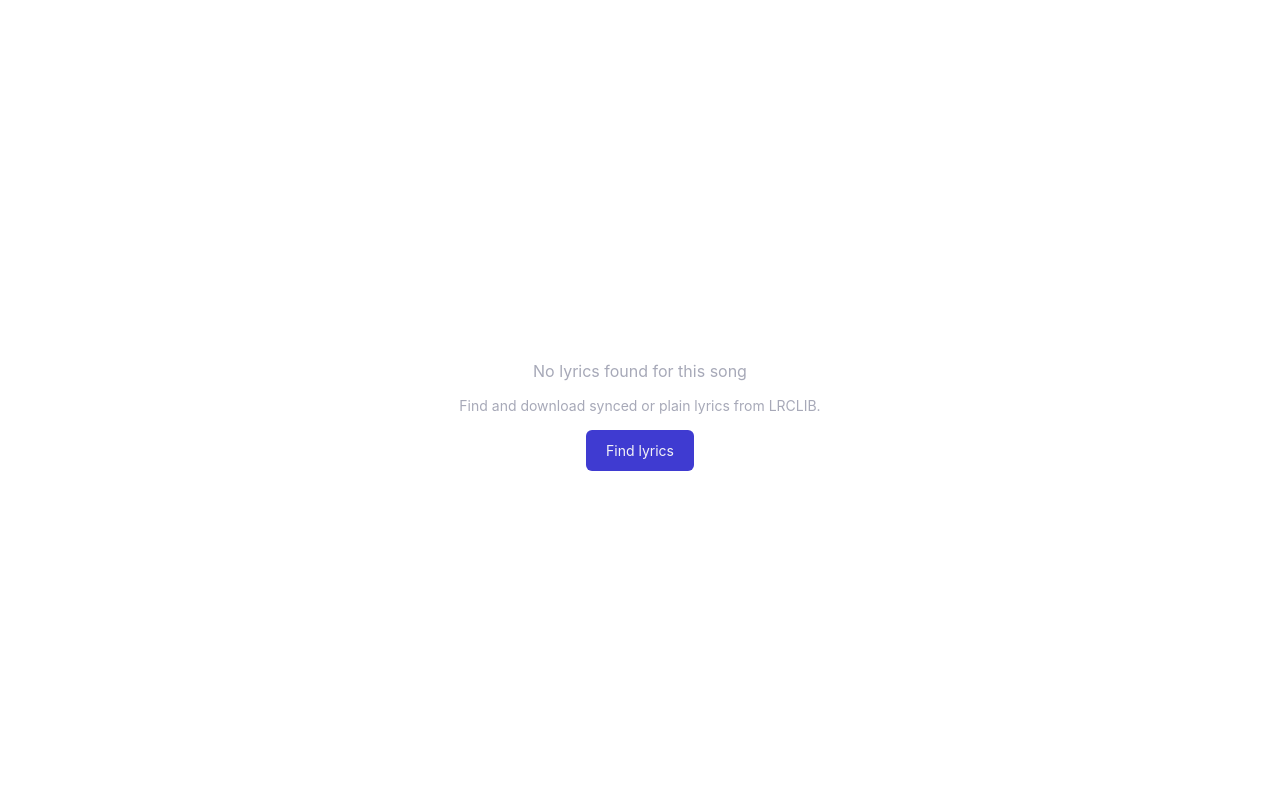
Test: opens LRCLIB search from missing lyrics and displays the downloaded lyrics without switching songs
Click the button "Find lyrics" at (640, 450), box [586,430,694,471]
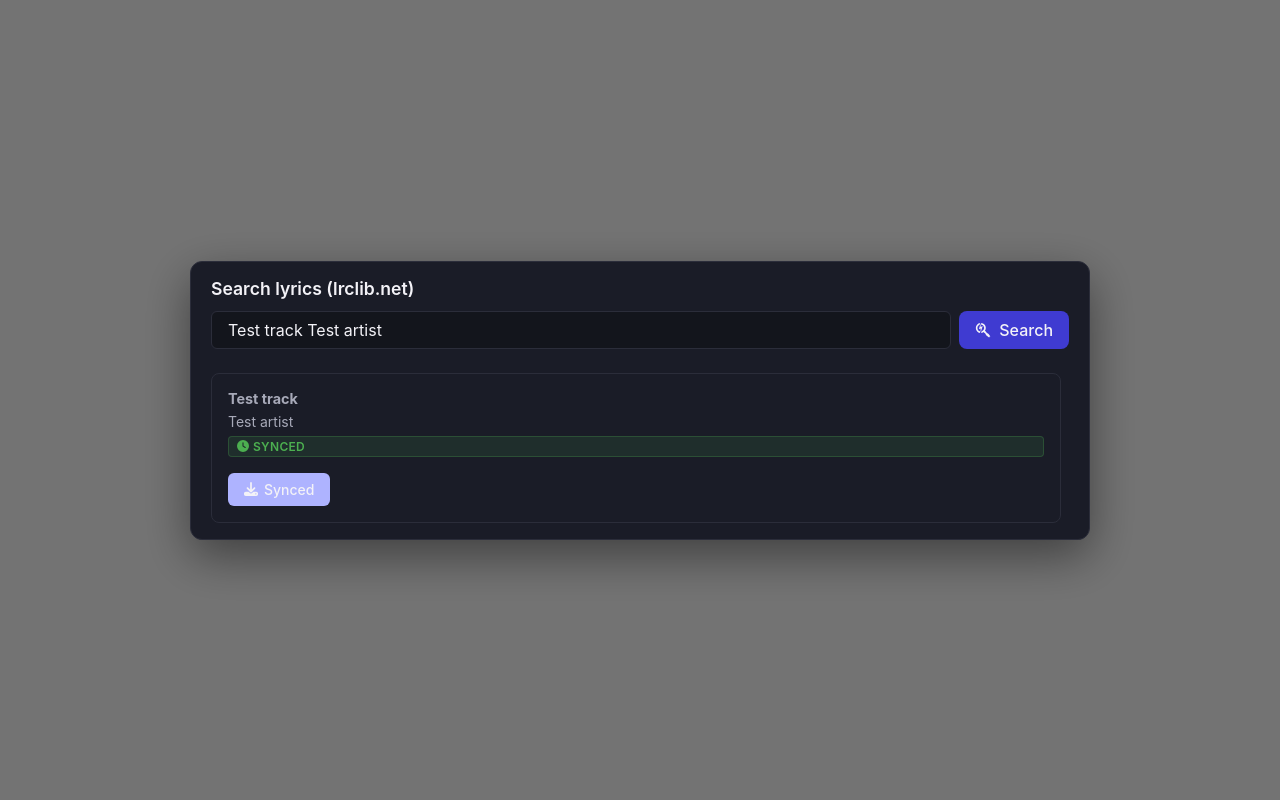
expect the dialog is shown: met, box [190,260,1090,540]
expect the field with placeholder "Track, artist, album…" holds "Test track Test artist": met, box [211,310,951,348]
Click the button "Synced" at (279, 489), box [228,472,330,506]
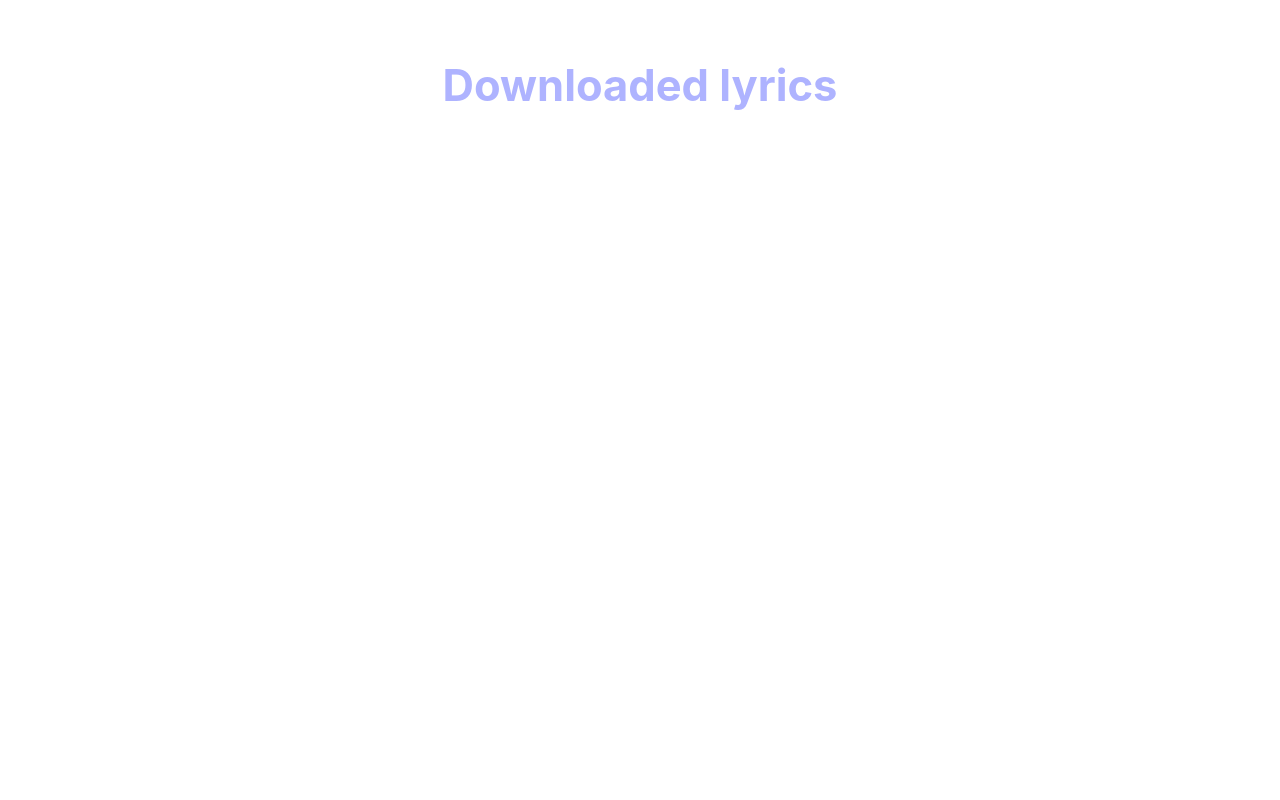
expect the text "Downloaded lyrics" is shown: met, box [427,48,853,124]
expect the button "Find lyrics" is gone: met
